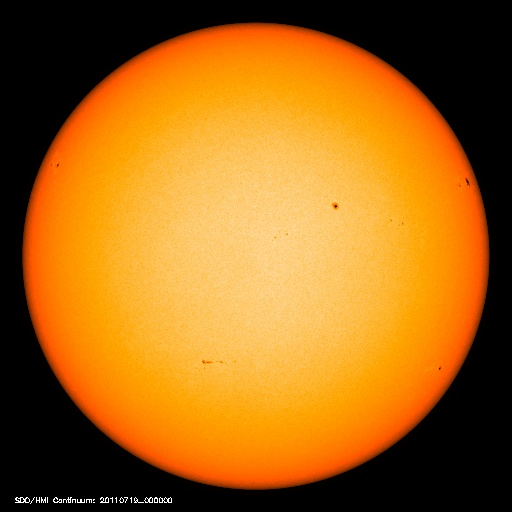sunspot: (318, 188, 350, 220), (446, 165, 481, 194), (195, 352, 247, 371), (424, 353, 454, 383), (41, 152, 68, 175)
